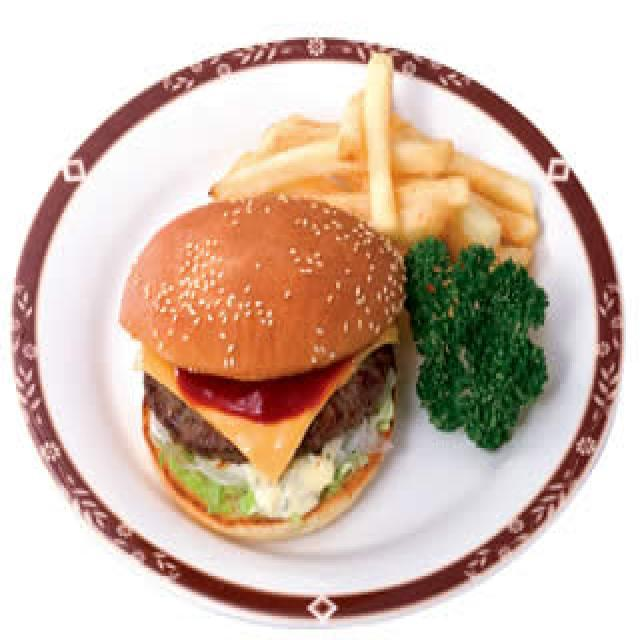French Fries: (225, 56, 534, 246)
Hamburger: (114, 193, 403, 538)
